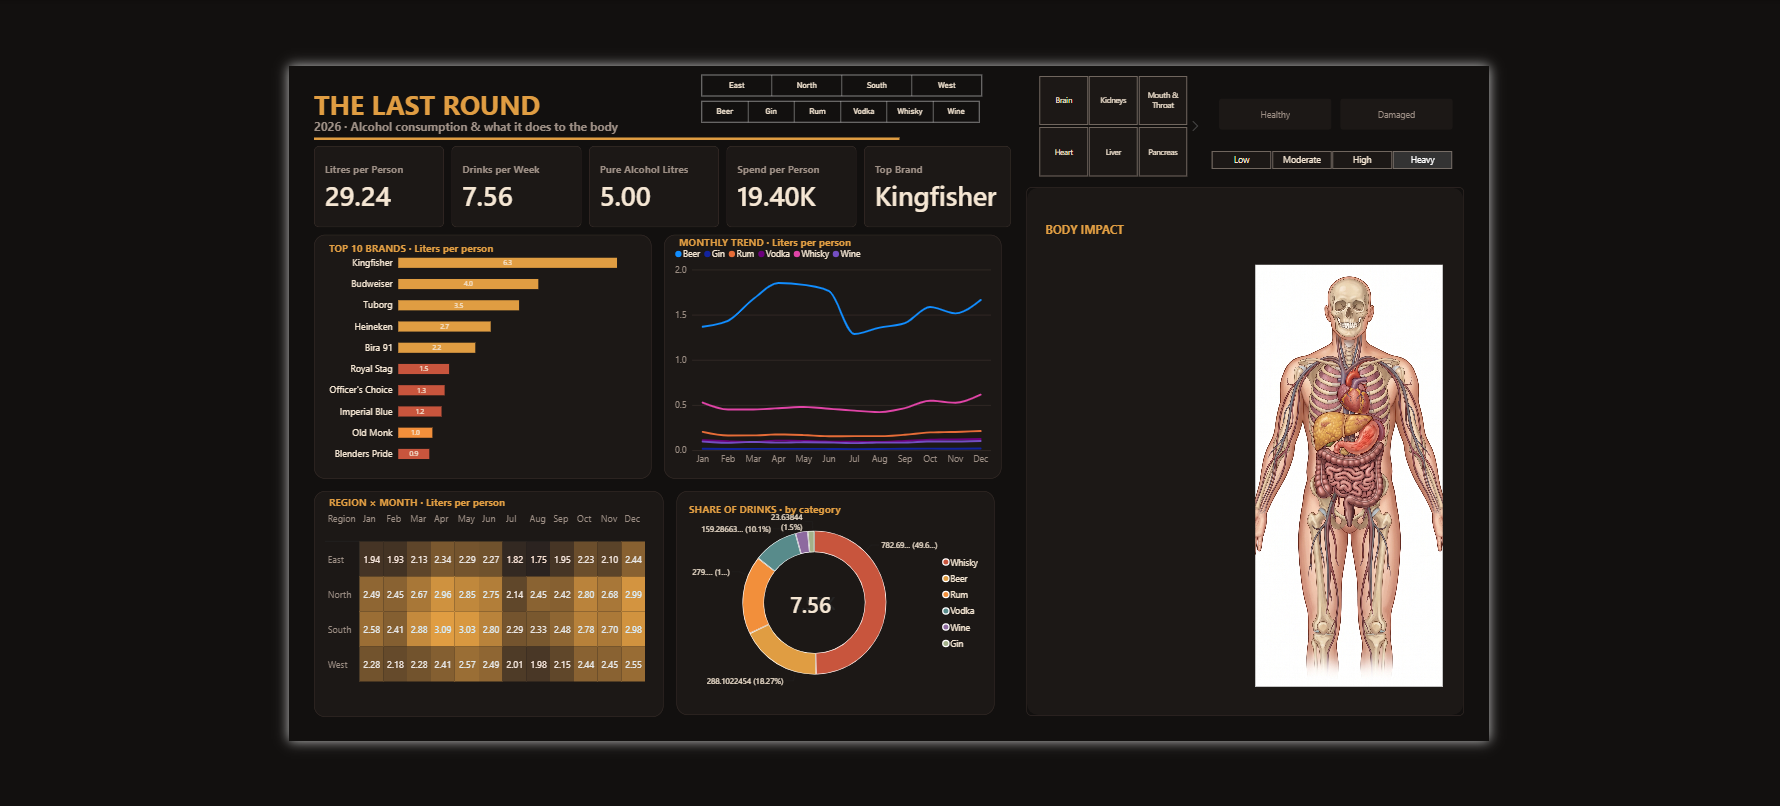

This screenshot's page, from the dashboard's own definition file:
{"tool":"powerbi","page":{"name":"Page 1","canvas":[1920,1080],"ordinal":0},"visuals":[{"type":"textbox","box":[40,14,480,86.2],"z":0},{"type":"textbox","box":[40.8,65.3,700,53.1],"z":1000},{"type":"shape","box":[40.8,98,936.7,36.7],"z":2000},{"type":"cardVisual","fields":{"Data":["tblBodyOrgans.Litres per Person"]},"box":[40.8,128,208.2,130],"z":3000},{"type":"cardVisual","fields":{"Data":["tblBodyOrgans.Drinks per Week"]},"box":[260,128,208.2,130],"z":4000},{"type":"cardVisual","fields":{"Data":["tblBodyOrgans.Pure Alcohol Litres"]},"box":[480,128,208.2,130],"z":5000},{"type":"cardVisual","fields":{"Data":["tblBodyOrgans.Spend per Person"]},"box":[700,128,208.2,130],"z":6000},{"type":"cardVisual","fields":{"Data":["tblBodyOrgans.Top Brand"]},"box":[920,127.5,235,130],"z":7000},{"type":"barChart","fields":{"Category":["tblBrands.Brand"],"Series":["tblBrands.Category"],"Y":["tblBodyOrgans.Litres per Person"]},"box":[40.8,270,540,390],"z":8000},{"type":"textbox","box":[64,280,400,30],"z":9000},{"type":"lineChart","fields":{"Category":["Calendar.Month"],"Series":["tblBrands.Category"],"Y":["tblBodyOrgans.Litres per Person"]},"box":[600,270,540,390],"z":10000},{"type":"textbox","box":[624,270,540,40],"z":11000},{"type":"pivotTable","fields":{"Columns":["Calendar.Month"],"Rows":["tblConsumption.Region"],"Values":["tblBodyOrgans.Litres per Person"]},"box":[40.8,679.6,559.2,361.2],"z":12000},{"type":"textbox","box":[64.2,686.7,480,26.7],"z":13000},{"type":"donutChart","fields":{"Category":["tblBrands.Category"],"Y":["Sum(tblConsumption.Standard_Drinks)"]},"box":[619.6,680.4,508.7,358.7],"z":14000},{"type":"cardVisual","fields":{"Data":["tblBodyOrgans.Drinks per Week"]},"box":[787,826.1,132.7,69.4],"z":15000},{"type":"textbox","box":[640.8,698,461.2,34.7],"z":16000},{"type":"advancedSlicerVisual","fields":{"Values":["tblConsumption.Region"]},"box":[640,14,490,34],"z":17000},{"type":"advancedSlicerVisual","fields":{"Values":["tblBrands.Category"]},"box":[640,56,490,34],"z":18000},{"type":"shape","box":[1180.4,193.5,700,845.7],"z":19000},{"type":"textbox","box":[1210.9,230.4,334.8,58.7],"z":20000},{"type":"image","title":"img_damaged","box":[1545.7,317.4,300,675],"z":21000},{"type":"image","title":"img_healthy","box":[1210.9,319.6,300,675],"z":22000},{"type":"slicer","title":"sl_organ","fields":{"Values":["tblBodyOrgans.Organ"]},"box":[1180,14,276,164],"z":22001},{"type":"actionButton","box":[1488,52,180,50],"z":22002},{"type":"actionButton","box":[1682,52,180,50],"z":22003},{"type":"slicer","title":"sl_level","fields":{"Values":["tblIntakeLevels.Level"]},"box":[1456,134,423.9,32.6],"z":22004}]}

Visuals, with their boxes on the page's 1920x1080 design canvas (x1, y1, x2, y2). These are canvas units, not pixel positions in the 1780x806 screenshot, which may show the page scaled, cropped or inside an application window:
textbox: select_region(40, 14, 520, 100)
textbox: select_region(41, 65, 741, 118)
shape: select_region(41, 98, 978, 135)
cardVisual - tblBodyOrgans.Litres per Person: select_region(41, 128, 249, 258)
cardVisual - tblBodyOrgans.Drinks per Week: select_region(260, 128, 468, 258)
cardVisual - tblBodyOrgans.Pure Alcohol Litres: select_region(480, 128, 688, 258)
cardVisual - tblBodyOrgans.Spend per Person: select_region(700, 128, 908, 258)
cardVisual - tblBodyOrgans.Top Brand: select_region(920, 128, 1155, 258)
barChart - tblBrands.Brand x tblBrands.Category: select_region(41, 270, 581, 660)
textbox: select_region(64, 280, 464, 310)
lineChart - Calendar.Month x tblBrands.Category: select_region(600, 270, 1140, 660)
textbox: select_region(624, 270, 1164, 310)
pivotTable - Calendar.Month x tblConsumption.Region: select_region(41, 680, 600, 1041)
textbox: select_region(64, 687, 544, 713)
donutChart - tblBrands.Category x Sum(tblConsumption.Standard_Drinks): select_region(620, 680, 1128, 1039)
cardVisual - tblBodyOrgans.Drinks per Week: select_region(787, 826, 920, 896)
textbox: select_region(641, 698, 1102, 733)
advancedSlicerVisual - tblConsumption.Region: select_region(640, 14, 1130, 48)
advancedSlicerVisual - tblBrands.Category: select_region(640, 56, 1130, 90)
shape: select_region(1180, 194, 1880, 1039)
textbox: select_region(1211, 230, 1546, 289)
"img_damaged" image: select_region(1546, 317, 1846, 992)
"img_healthy" image: select_region(1211, 320, 1511, 995)
"sl_organ" slicer: select_region(1180, 14, 1456, 178)
actionButton: select_region(1488, 52, 1668, 102)
actionButton: select_region(1682, 52, 1862, 102)
"sl_level" slicer: select_region(1456, 134, 1880, 167)
